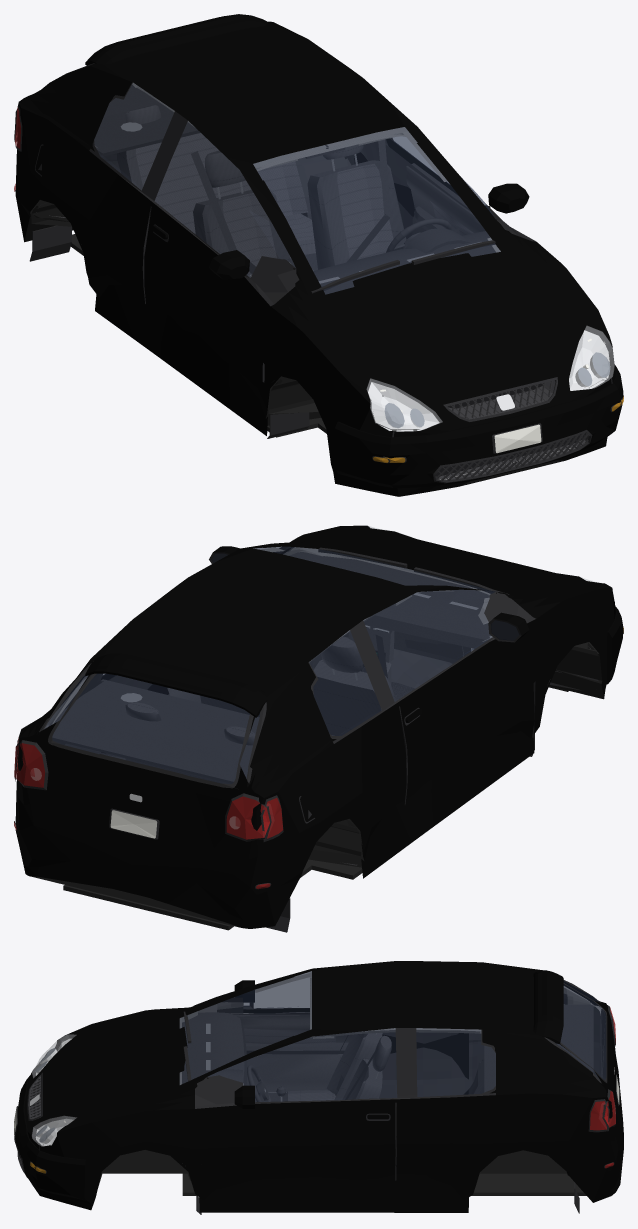
File: body.glb
3 views of the same model, one above another, from view 1: azimuth 30°, elevation 25°; view 2: azimuth 150°, elevation 25°; view 3: azimuth 270°, elevation 25° (orthographic). The views are drawn at different scales.
Parts seen in each view (by area): view 1: Body, BumperF, Interior_SeatDriver, Interior_Bare, Interior_RearSeats, Interior_Trim, Interior_SeatPassenger, Headlights, Grilles, Interior_Lining, Interior, Spoiler (+5 smaller); view 2: Body, Interior_Trim, Interior_Bare, Interior, Interior_SeatPassenger, Spoiler, Interior_Lining, Lamps, Trim, Details, Mirrors, Interior_RearSeats (+1 smaller); view 3: Body, Interior_Bare, Interior_Trim, Interior_Lining, Interior, BumperF, WellLiners, Interior_SeatPassenger, Spoiler, Interior_SeatDriver, Headlights, Lamps (+5 smaller).
Boxes of the visible parts, x1,y1,x2,y2 form: Body: [15, 21, 615, 496]; BumperF: [335, 364, 623, 487]; Interior_SeatDriver: [307, 139, 406, 269]; Interior_Bare: [70, 152, 414, 437]; Interior_RearSeats: [117, 105, 317, 270]; Interior_Trim: [94, 84, 485, 277]; Interior_SeatPassenger: [191, 150, 290, 277]; Headlights: [366, 326, 614, 431]; Grilles: [433, 377, 592, 483]; Interior_Lining: [36, 83, 607, 479]; Interior: [305, 145, 495, 294]; Spoiler: [85, 14, 267, 65]; Body: [15, 525, 615, 928]; Interior_Trim: [48, 594, 413, 783]; Interior_Bare: [63, 684, 534, 930]; Interior: [289, 552, 490, 684]; Interior_SeatPassenger: [313, 635, 395, 735]; Spoiler: [85, 653, 267, 717]; Interior_Lining: [44, 547, 598, 759]; Lamps: [14, 627, 623, 889]; Trim: [78, 681, 535, 839]; Details: [299, 547, 509, 823]; Mirrors: [209, 546, 529, 642]; Interior_RearSeats: [125, 702, 255, 784]; Body: [24, 961, 623, 1210]; Interior_Bare: [182, 1033, 586, 1212]; Interior_Trim: [234, 972, 593, 1101]; Interior_Lining: [37, 972, 606, 1163]; Interior: [182, 1012, 249, 1085]; BumperF: [15, 1075, 86, 1200]; WellLiners: [101, 1150, 566, 1173]; Interior_SeatPassenger: [282, 1033, 382, 1101]; Spoiler: [533, 970, 563, 1043]; Interior_SeatDriver: [342, 1035, 391, 1099]; Headlights: [32, 1034, 76, 1146]; Lamps: [30, 1005, 615, 1173].
Bounding box in the file's own units: 1.93 × 1.29 × 4.15.
Materials: 25 (8 with a texture image).
